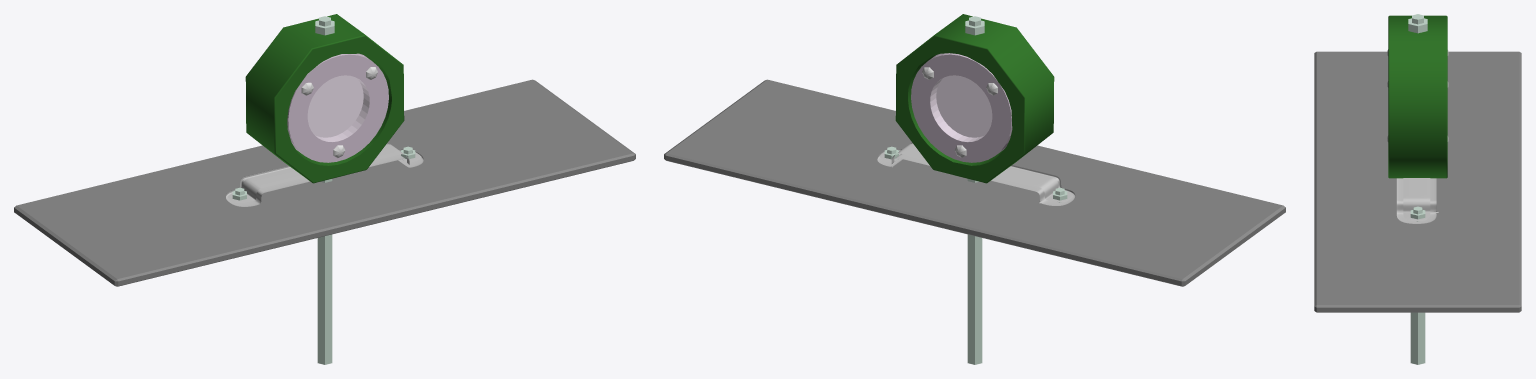
Rendered from jiance.gltf.
3 renders of one model, left to right at view 1: azimuth 30°, elevation 25°; view 2: azimuth 150°, elevation 25°; view 3: azimuth 270°, elevation 25°, orthographic.
Parts seen in each view (by area): view 1: Z_UP; view 2: Z_UP; view 3: Z_UP.
Part boxes in pixels (x1,y1,x2,y2): Z_UP: (14,14,635,364); Z_UP: (664,14,1285,364); Z_UP: (1314,14,1521,364).
Size of the model in its own units: 3.72 by 2.34 by 1.27.
